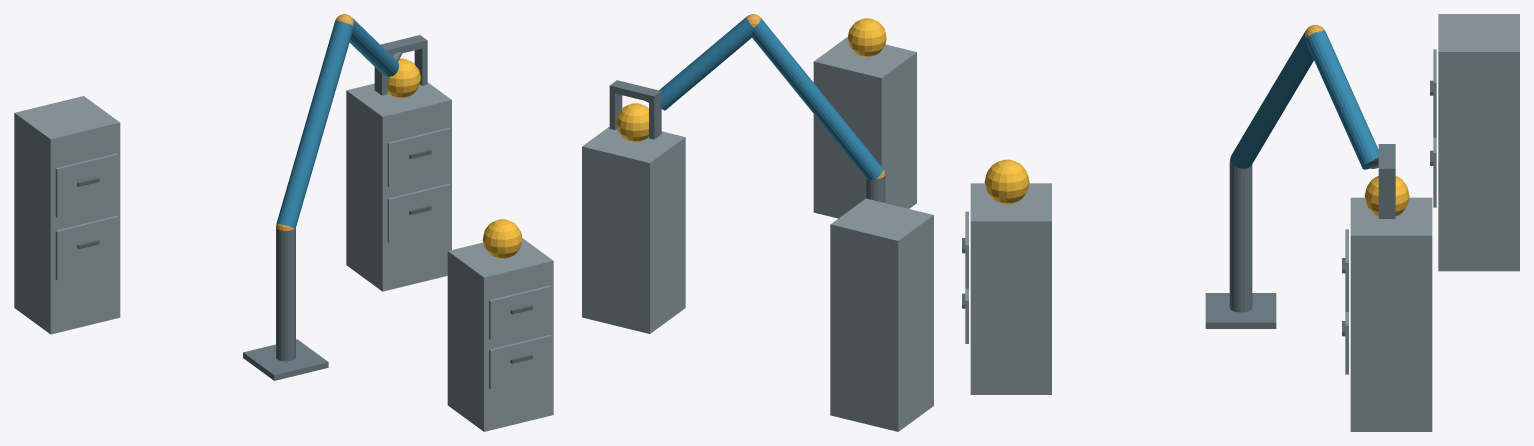
The picture shows the model from 3 angles, left to right: view 1: azimuth 30°, elevation 25°; view 2: azimuth 150°, elevation 25°; view 3: azimuth 270°, elevation 25°; orthographic projection. The views are drawn at different scales.
Parts seen in each view (by area): view 1: cabinet_3 body, cabinet_2 body, cabinet_1 body, moving link 1, cabinet_3 drawer front, cabinet_3 drawer front.001, cabinet_2 drawer front.001, cabinet_2 drawer front, fixed post, cabinet_1 drawer front.001, cabinet_1 drawer front, pedestal (+4 smaller); view 2: cabinet_3 body, cabinet_2 body, cabinet_1 body, moving link 1, moving link 2, released ball_1, ball ball_2, gripper bridge, gripper finger -1, fixed post, gripper finger 1; view 3: cabinet_3 body, cabinet_2 body, cabinet_1 body, fixed post, moving link 2, moving link 1, pedestal, released ball_1, ball ball_2, gripper finger 1, gripper bridge.
Part boxes in pixels (bbox=[...]): cabinet_3 body: bbox=[14, 96, 120, 334]; cabinet_2 body: bbox=[346, 82, 451, 291]; cabinet_1 body: bbox=[447, 238, 553, 431]; moving link 1: bbox=[276, 21, 353, 228]; cabinet_3 drawer front: bbox=[55, 216, 118, 280]; cabinet_3 drawer front.001: bbox=[55, 153, 118, 217]; cabinet_2 drawer front.001: bbox=[387, 128, 449, 187]; cabinet_2 drawer front: bbox=[387, 184, 449, 243]; fixed post: bbox=[276, 228, 295, 361]; cabinet_1 drawer front.001: bbox=[489, 285, 551, 339]; cabinet_1 drawer front: bbox=[489, 335, 551, 389]; pedestal: bbox=[243, 339, 328, 380]; cabinet_3 body: bbox=[830, 198, 933, 431]; cabinet_2 body: bbox=[582, 126, 685, 333]; cabinet_1 body: bbox=[813, 37, 916, 218]; moving link 1: bbox=[752, 18, 883, 179]; moving link 2: bbox=[659, 16, 753, 110]; released ball_1: bbox=[848, 18, 886, 57]; ball ball_2: bbox=[616, 103, 648, 142]; gripper bridge: bbox=[609, 80, 661, 102]; gripper finger -1: bbox=[649, 98, 661, 139]; fixed post: bbox=[866, 175, 885, 202]; gripper finger 1: bbox=[609, 92, 622, 129]; cabinet_3 body: bbox=[1438, 14, 1519, 271]; cabinet_2 body: bbox=[1350, 197, 1432, 431]; cabinet_1 body: bbox=[970, 183, 1051, 394]; fixed post: bbox=[1229, 161, 1252, 312]; moving link 2: bbox=[1306, 30, 1378, 169]; moving link 1: bbox=[1230, 30, 1313, 168]; pedestal: bbox=[1205, 293, 1276, 328]; released ball_1: bbox=[984, 159, 1029, 204]; ball ball_2: bbox=[1364, 176, 1409, 216]; gripper finger 1: bbox=[1378, 176, 1395, 218]; gripper bridge: bbox=[1378, 144, 1395, 176].
Size of the model in its own units: 1.67 by 1.33 by 1.98.
